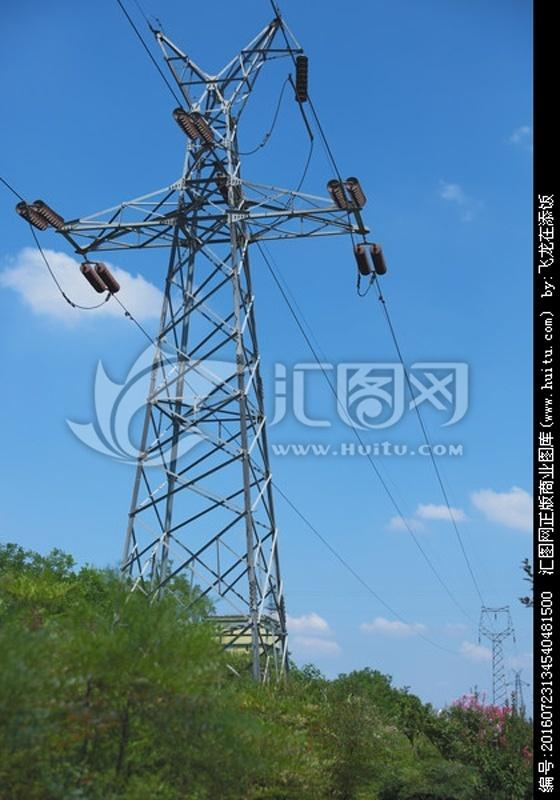power_tower: (70, 33, 358, 670), (473, 600, 518, 703)
